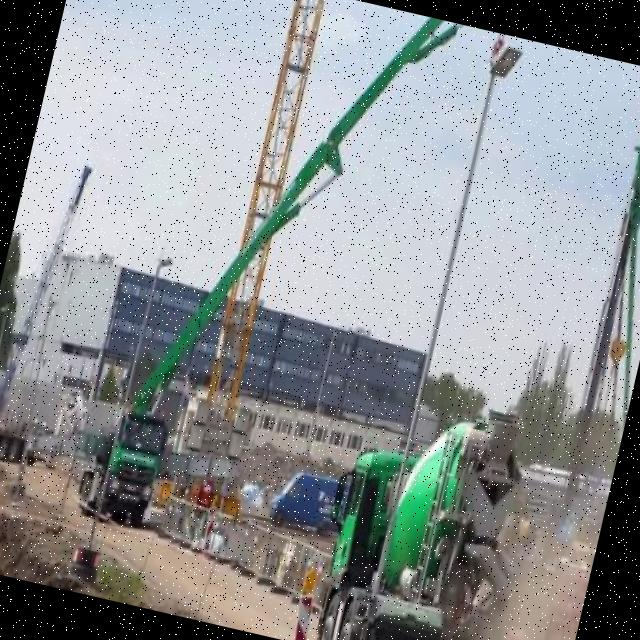Mobile Crane: (7, 0, 485, 587)
